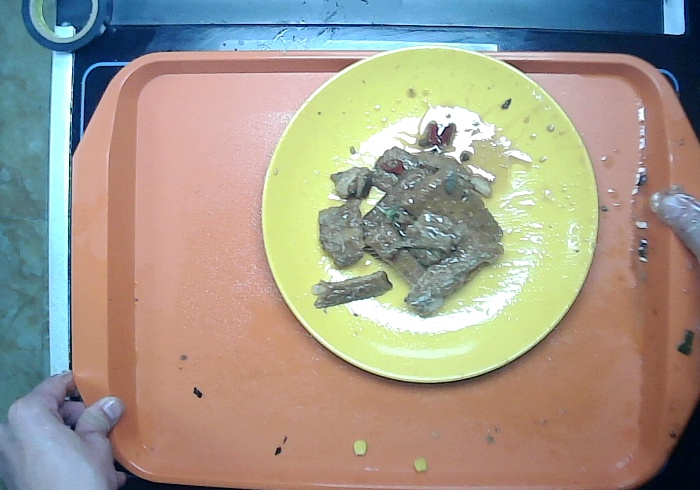HZYJPL-Huang_Se_Yuan_Pan: (251, 37, 609, 397)
